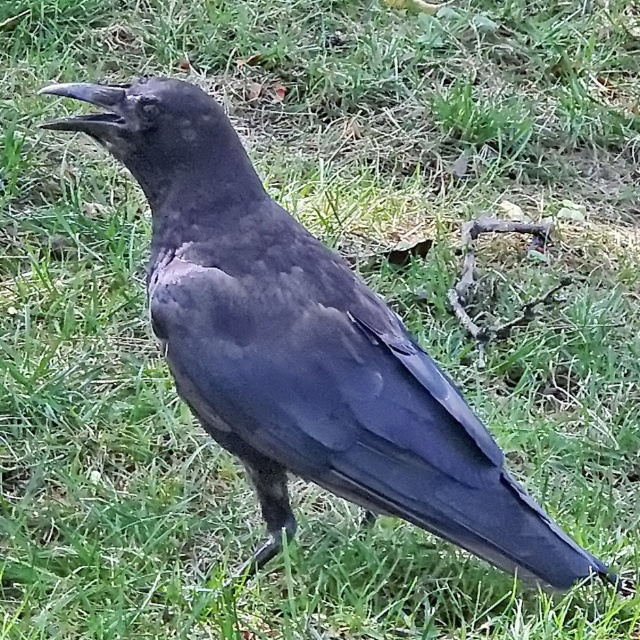Raven: (34, 77, 615, 597)
